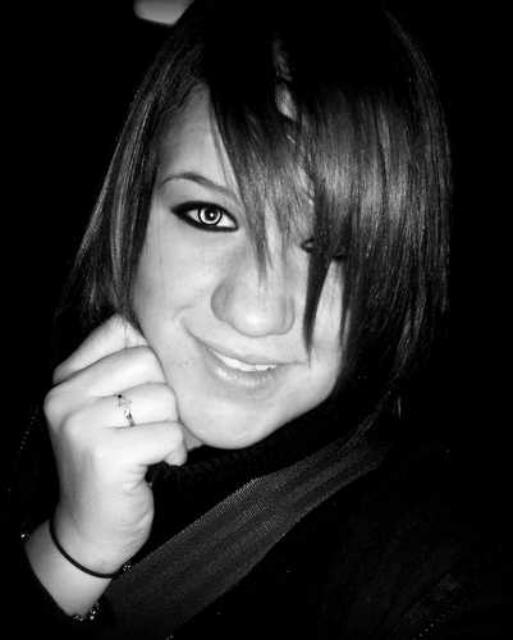SafeDriving: (164, 180, 250, 242)
Seatbelt: (107, 420, 389, 620)
